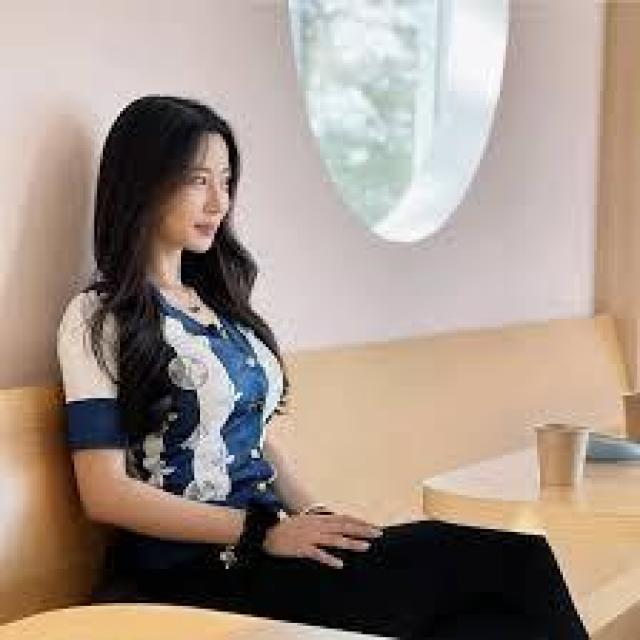Tshirt: (44, 275, 304, 536)
